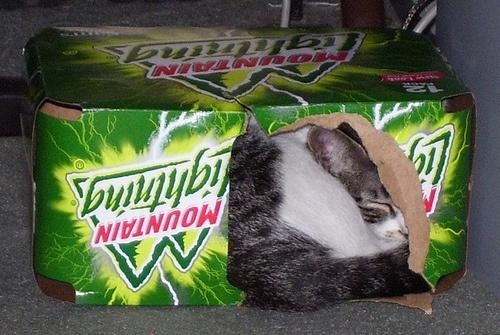cat: (226, 119, 434, 311)
